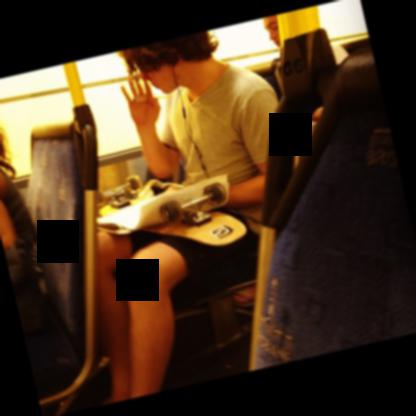handbag: (4, 250, 58, 379)
